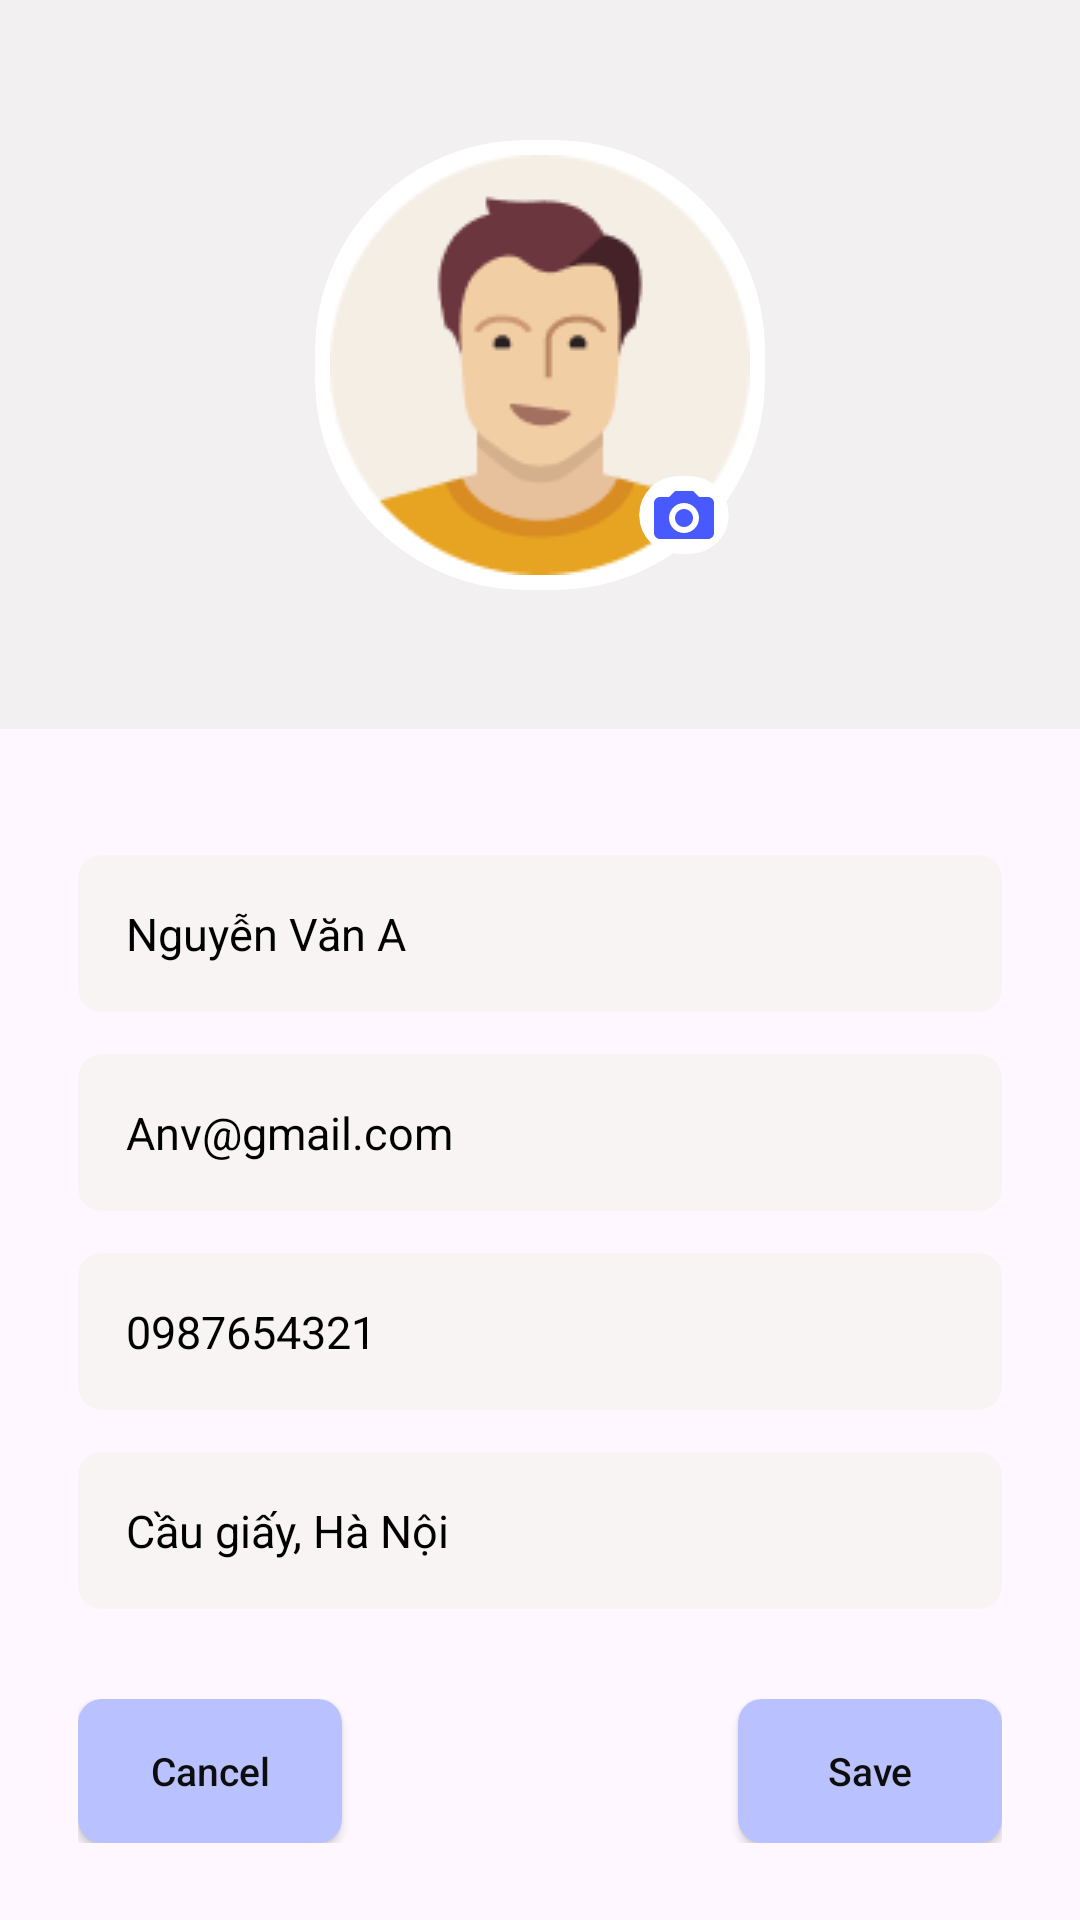

Point at icon controls on the screen. Image size 1080px x 1920px, points as (x=x, y=y).
camera: (x=684, y=515)
